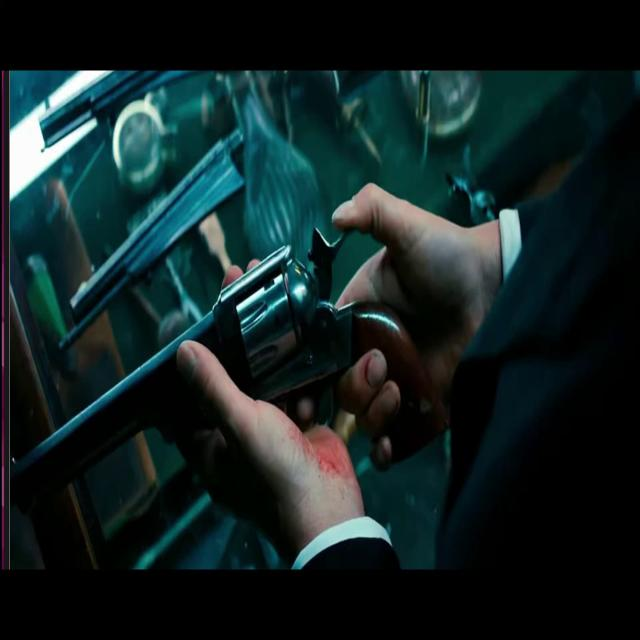weapons: (31, 272, 452, 464)
